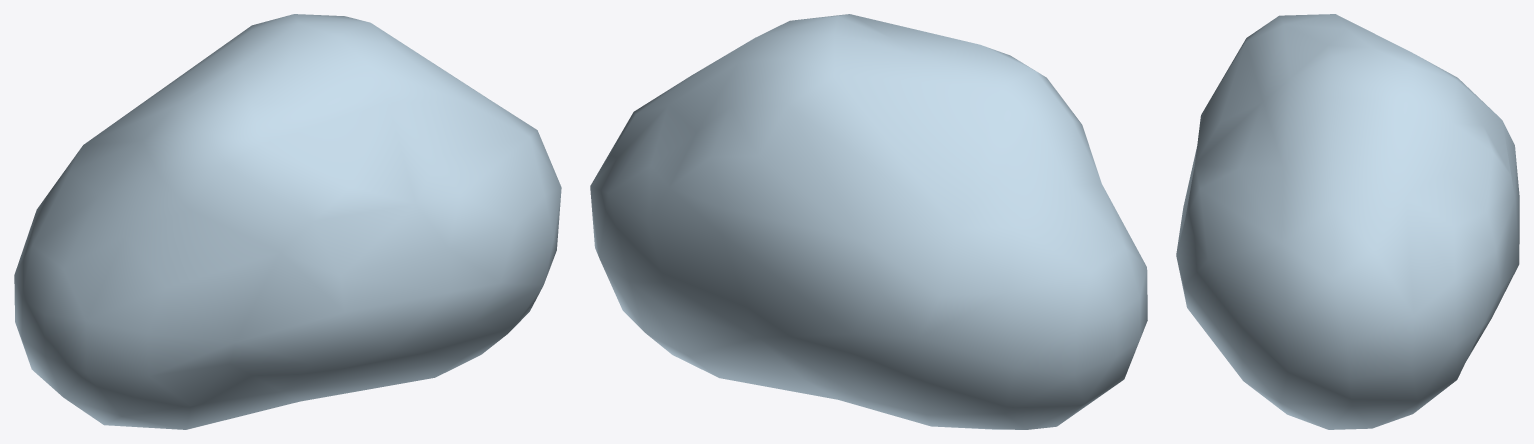
The model's file is cloud.glb.
The picture shows the model from 3 angles, left to right: view 1: azimuth 30°, elevation 25°; view 2: azimuth 150°, elevation 25°; view 3: azimuth 270°, elevation 25°; orthographic projection. The views are drawn at different scales.
Parts seen in each view (by area): view 1: cloud; view 2: cloud; view 3: cloud.
Part boxes in pixels (<box>): cloud: <box>14,14,561,429</box>; cloud: <box>590,14,1147,429</box>; cloud: <box>1176,14,1519,429</box>.
Size of the model in its own units: 5.19 by 3.46 by 3.29.
